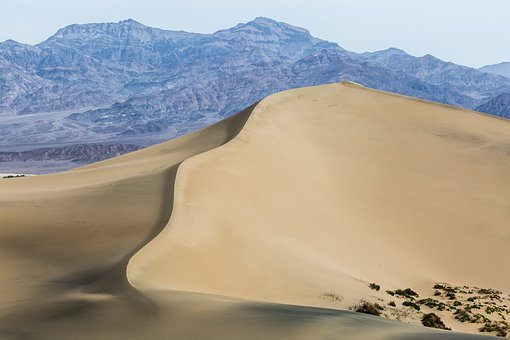desert: (65, 92, 510, 339)
mountain: (9, 11, 489, 120)
